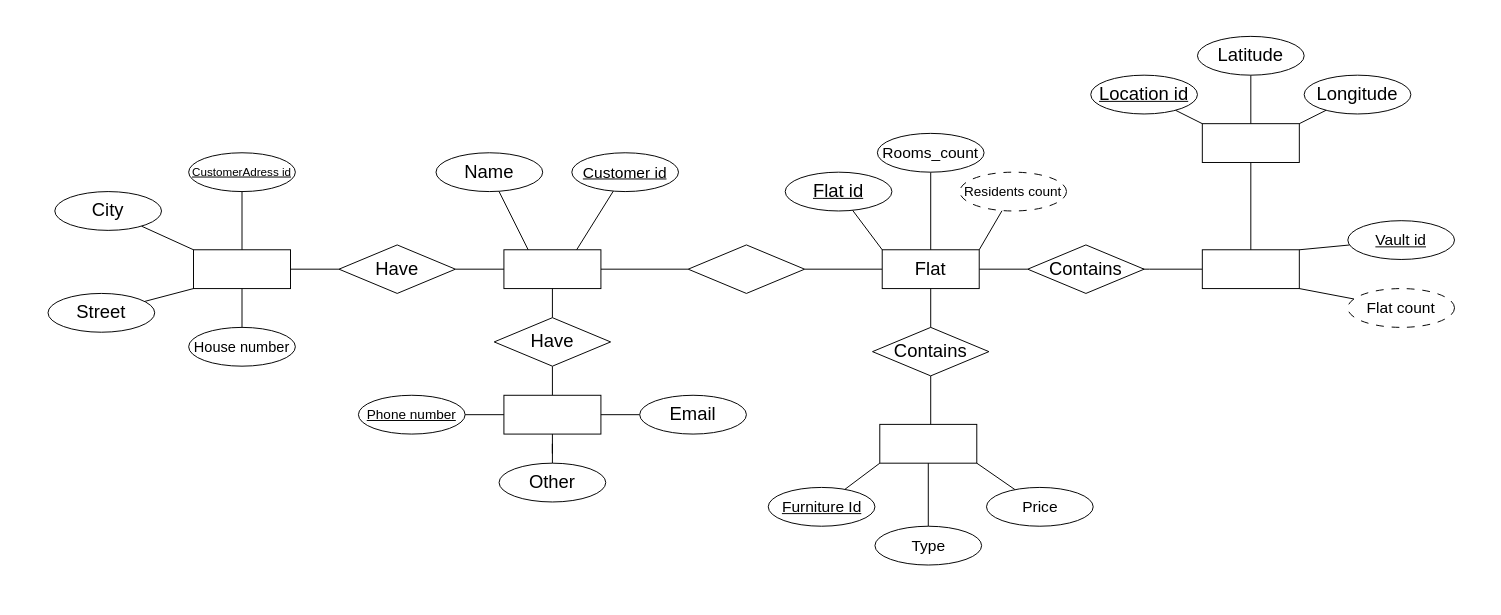
Some shapes in this 1501 by 615 pixel diagram are drawn without their labels. Each missing label, with the centre of its shape:
"Adress" goes at point 242,269.
"Contacts" goes at point 552,414.
"Customer" goes at point 552,269.
"Furniture" goes at point 928,443.
"Lives in" goes at point 746,268.
"Location" goes at point 1250,142.
"Vault" goes at point 1250,269.
